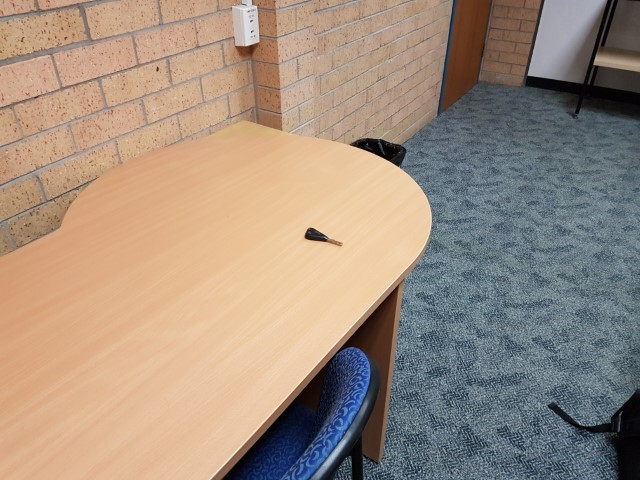key: (304, 228, 343, 246)
